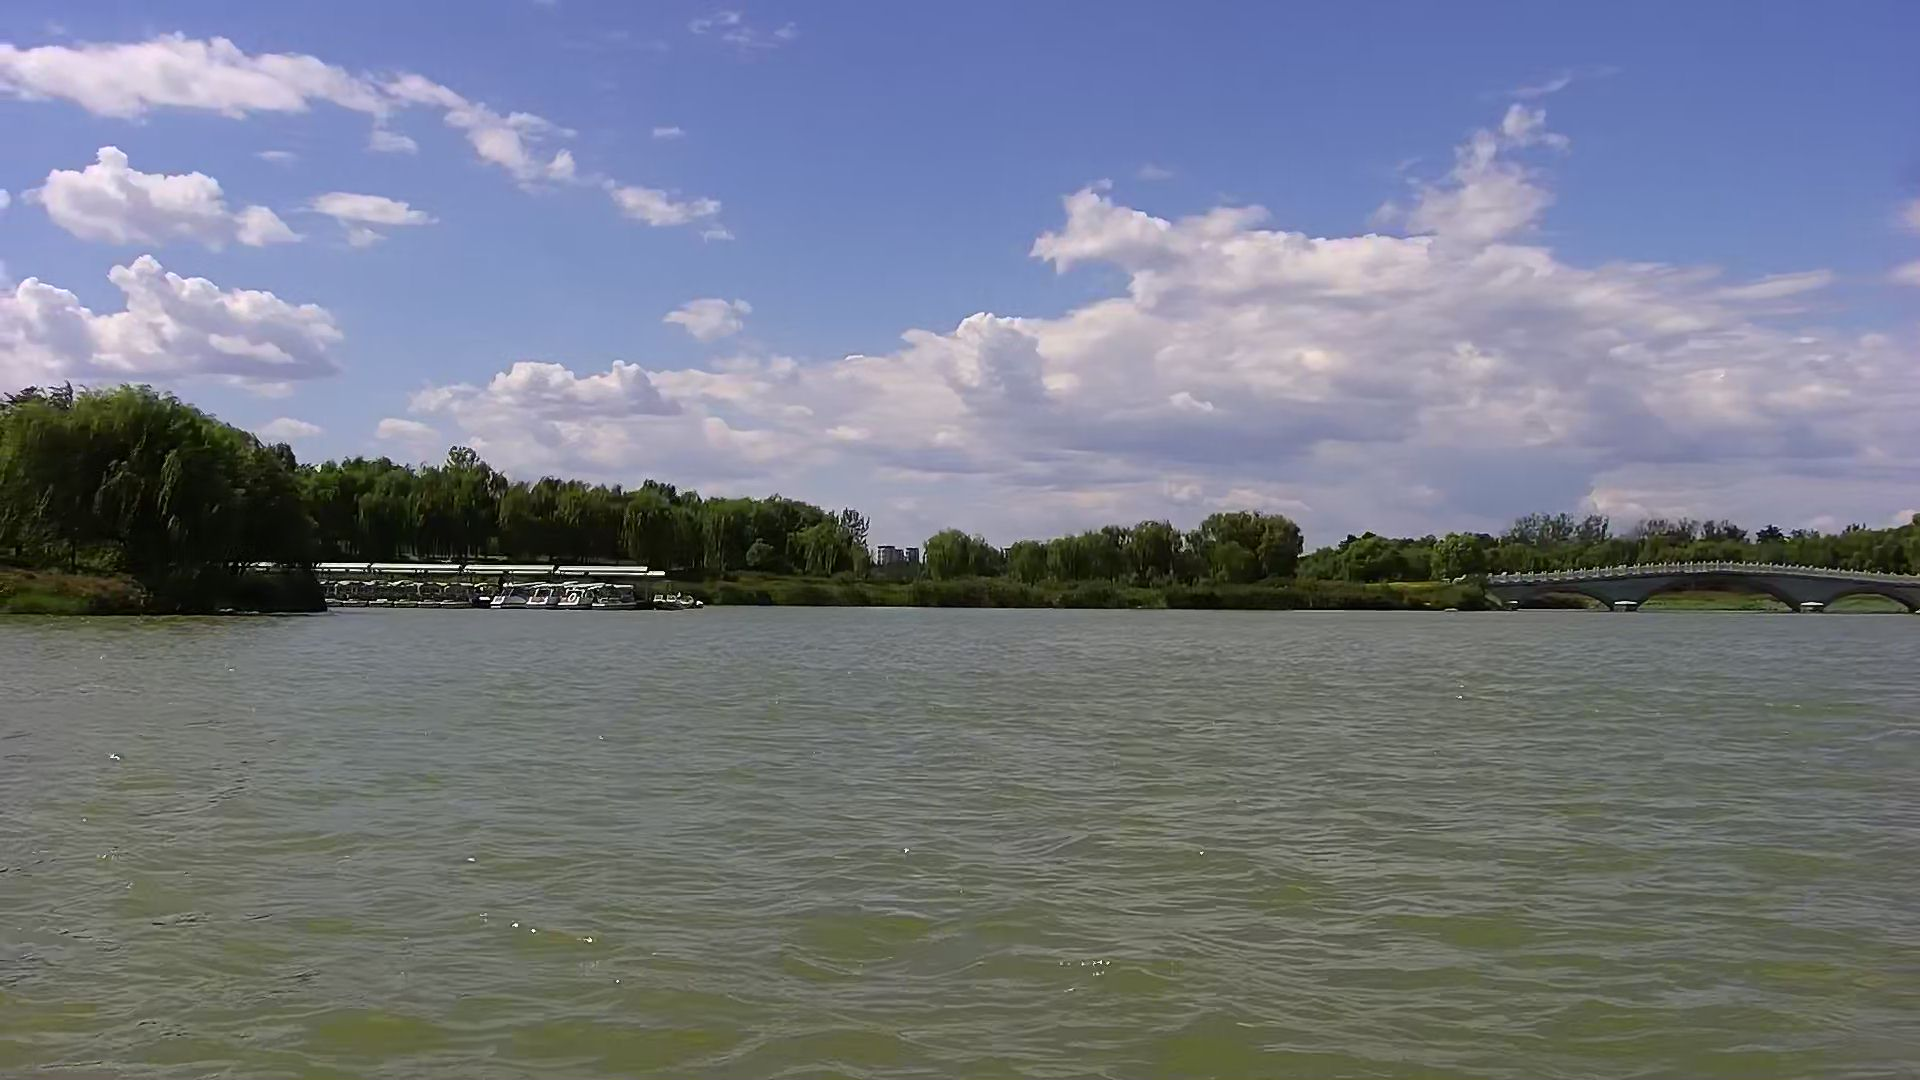bridge: (1490, 559, 1920, 611)
harbor: (322, 563, 704, 615)
